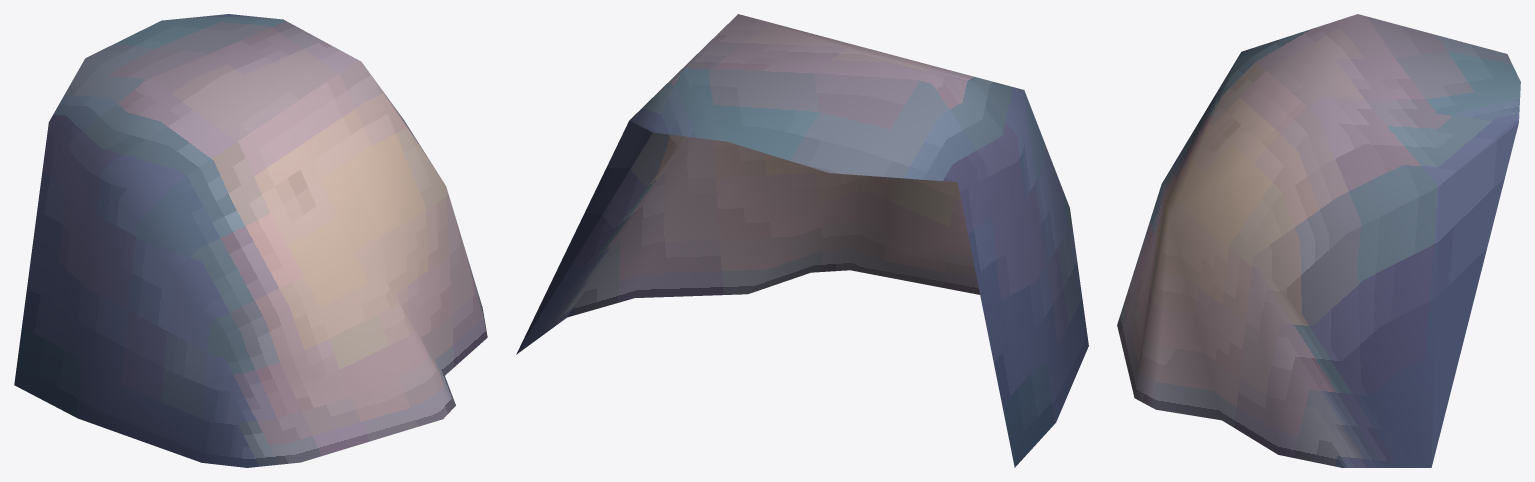
File: fg_stoneA.dae
The picture shows the model from 3 angles, left to right: view 1: azimuth 30°, elevation 25°; view 2: azimuth 150°, elevation 25°; view 3: azimuth 270°, elevation 25°; orthographic projection. The views are drawn at different scales.
Parts seen in each view (by area): view 1: fg_stoneA; view 2: fg_stoneA; view 3: fg_stoneA.
Part boxes in pixels (box(x1,y1,x2,y2)): fg_stoneA: box(14, 14, 487, 467); fg_stoneA: box(516, 14, 1088, 467); fg_stoneA: box(1117, 14, 1520, 467).
Bounding box in the file's own units: 33.03 × 21.84 × 27.04.
Materials: 1 (1 with a texture image).
